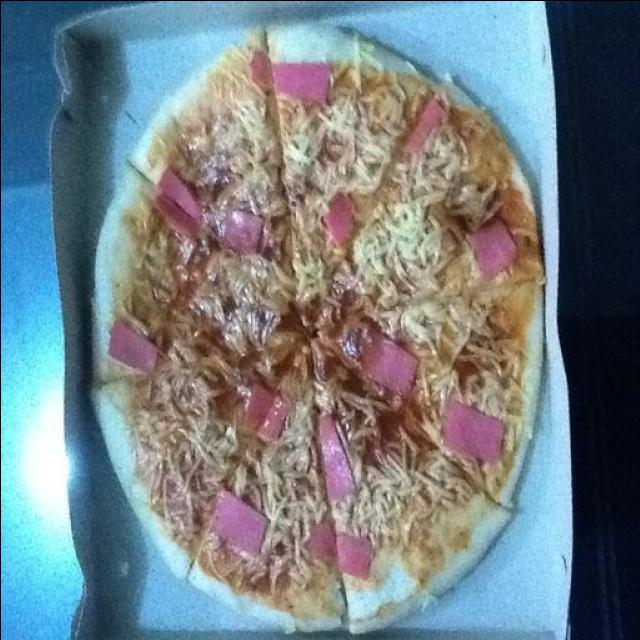pizza: (91, 20, 545, 634)
